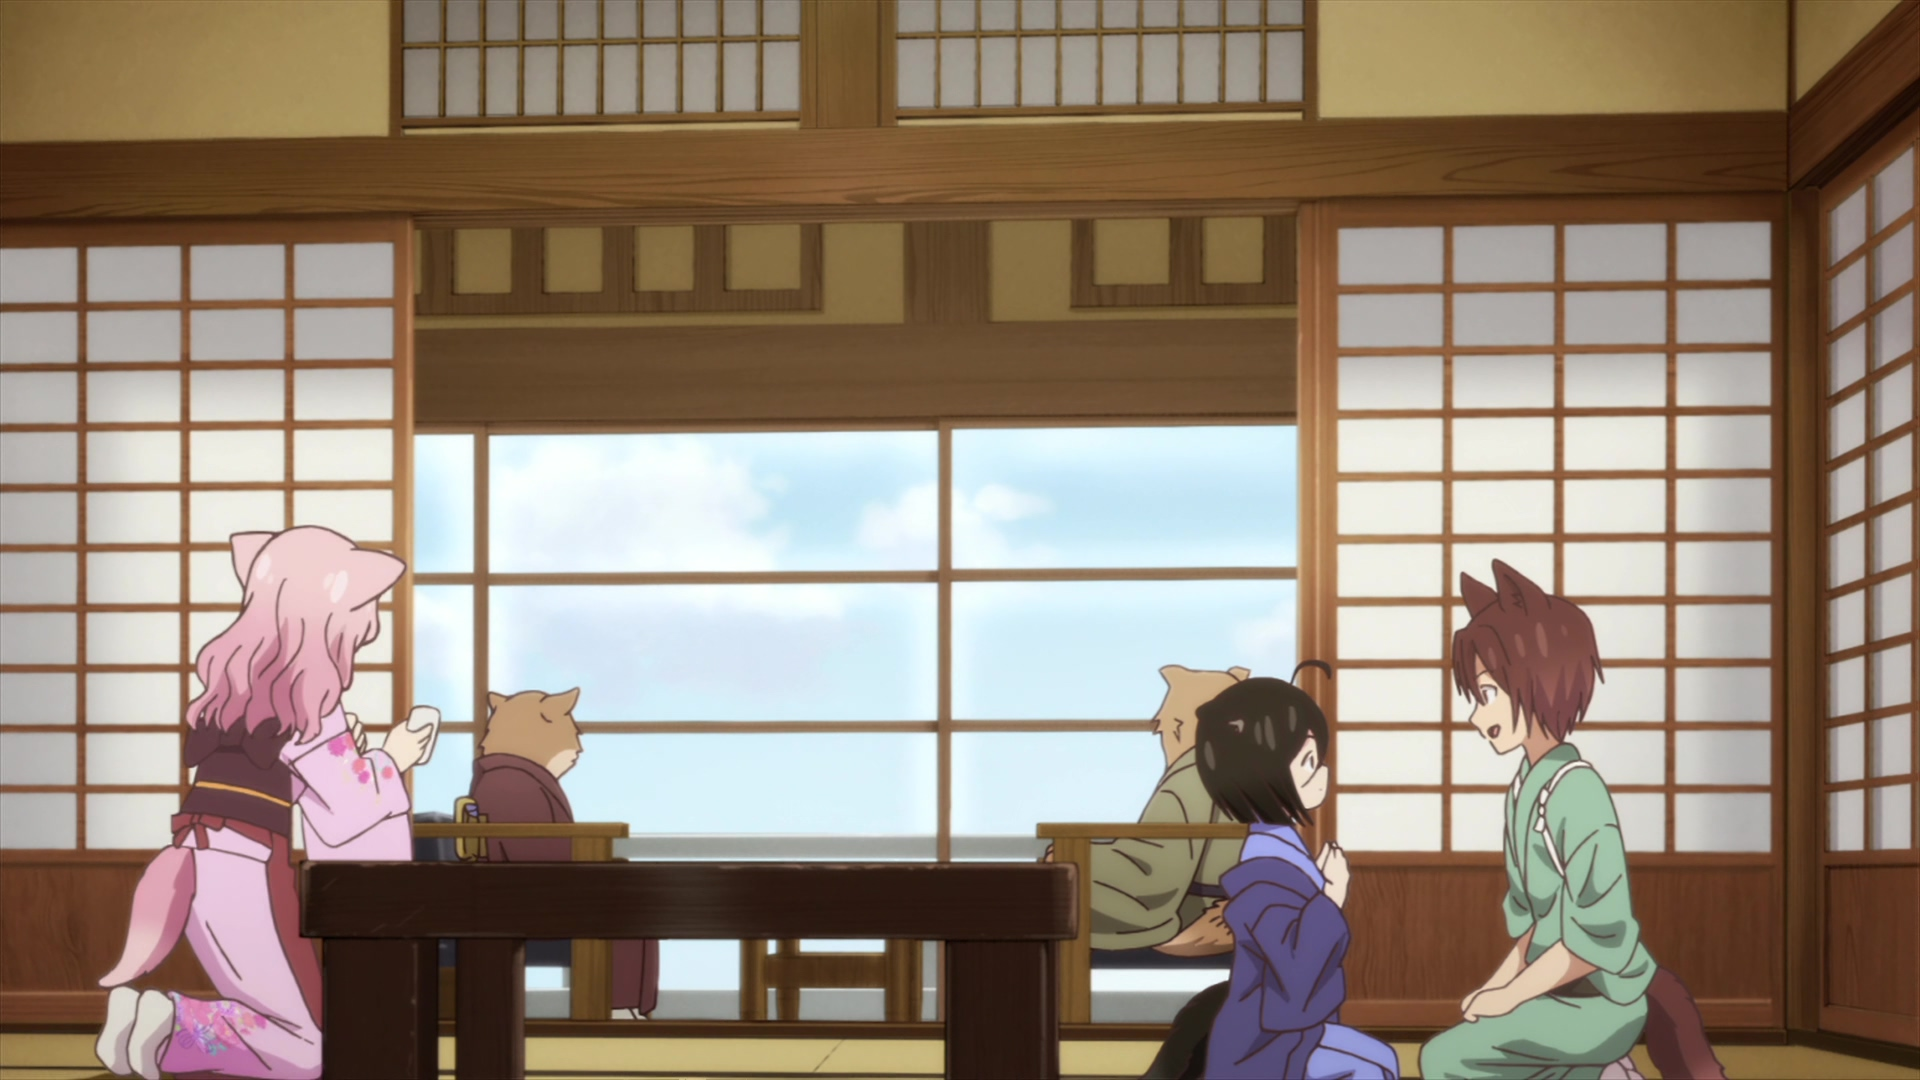其他: (1145, 659, 1398, 1080), (455, 686, 655, 1023), (1048, 663, 1261, 960)
枣: (1418, 558, 1722, 1080)
莲: (95, 524, 438, 1080)
